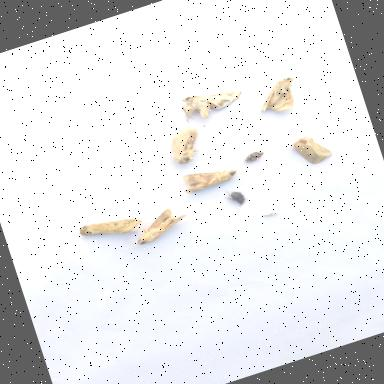abw: (110, 201, 194, 254), (176, 76, 250, 126), (74, 200, 146, 250), (247, 62, 306, 120), (178, 154, 254, 197), (161, 122, 210, 168), (288, 127, 336, 170)
